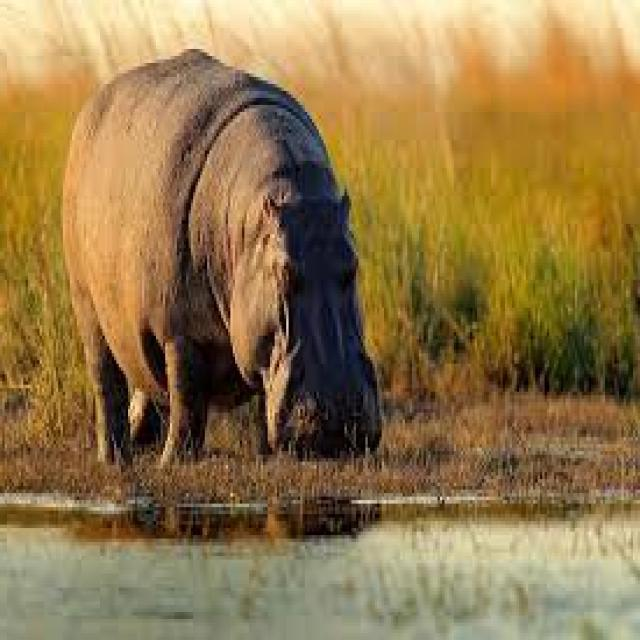hippopotamus: (65, 49, 379, 465)
